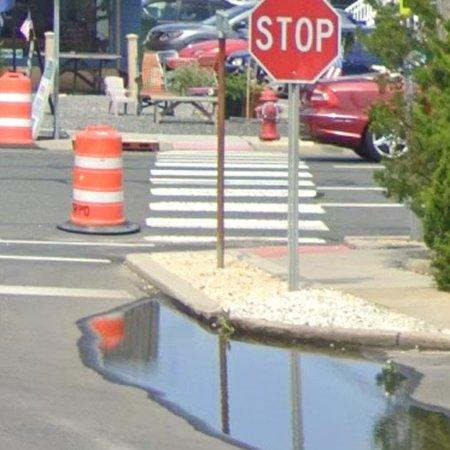crosswalks: (145, 151, 330, 245)
